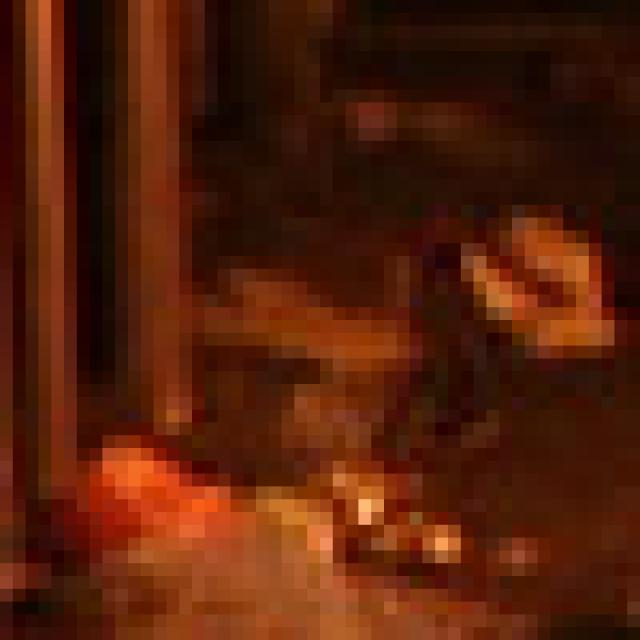no_fire: (41, 49, 640, 640)
